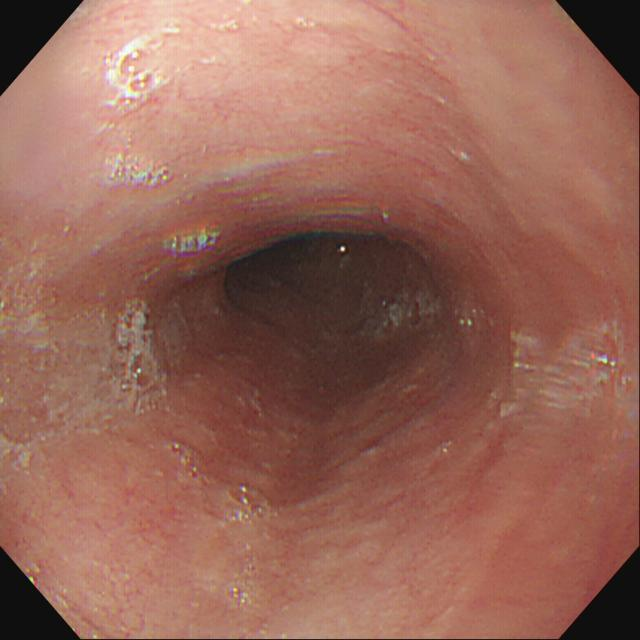A: (374, 365, 441, 419)
E: (225, 230, 426, 346)
T: (2, 297, 170, 468), (501, 318, 640, 421), (98, 22, 180, 189), (227, 478, 282, 526), (230, 548, 258, 610)
